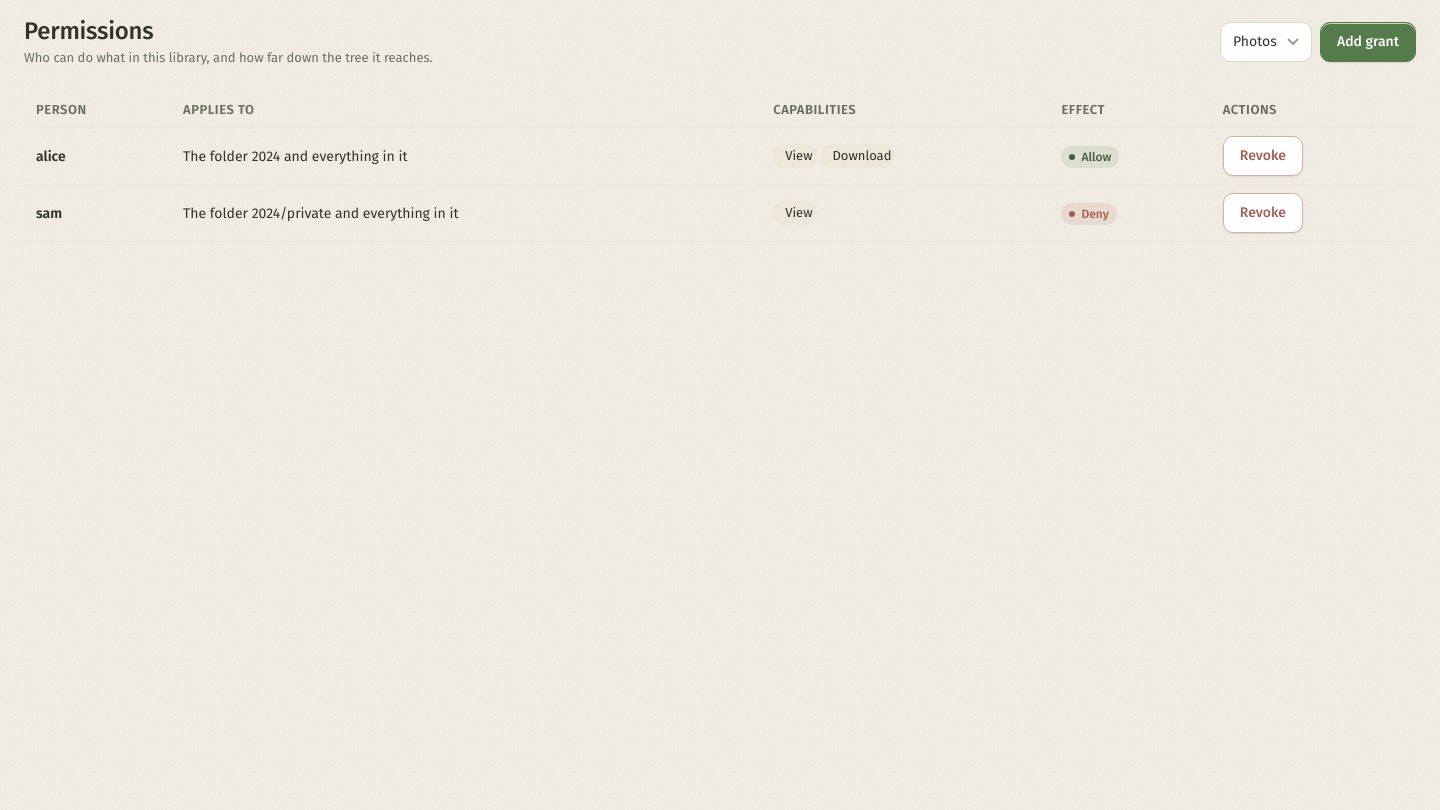
PermissionsPage › reports a failed revoke inside the dialog
This screenshot has width=1440, height=810.
Expected: the table with test id "grants-table" is shown, [24,92,1416,242]
Click the button with test id "revoke-grant-g1".
click(1263, 156)  # box [1223,136,1303,176]
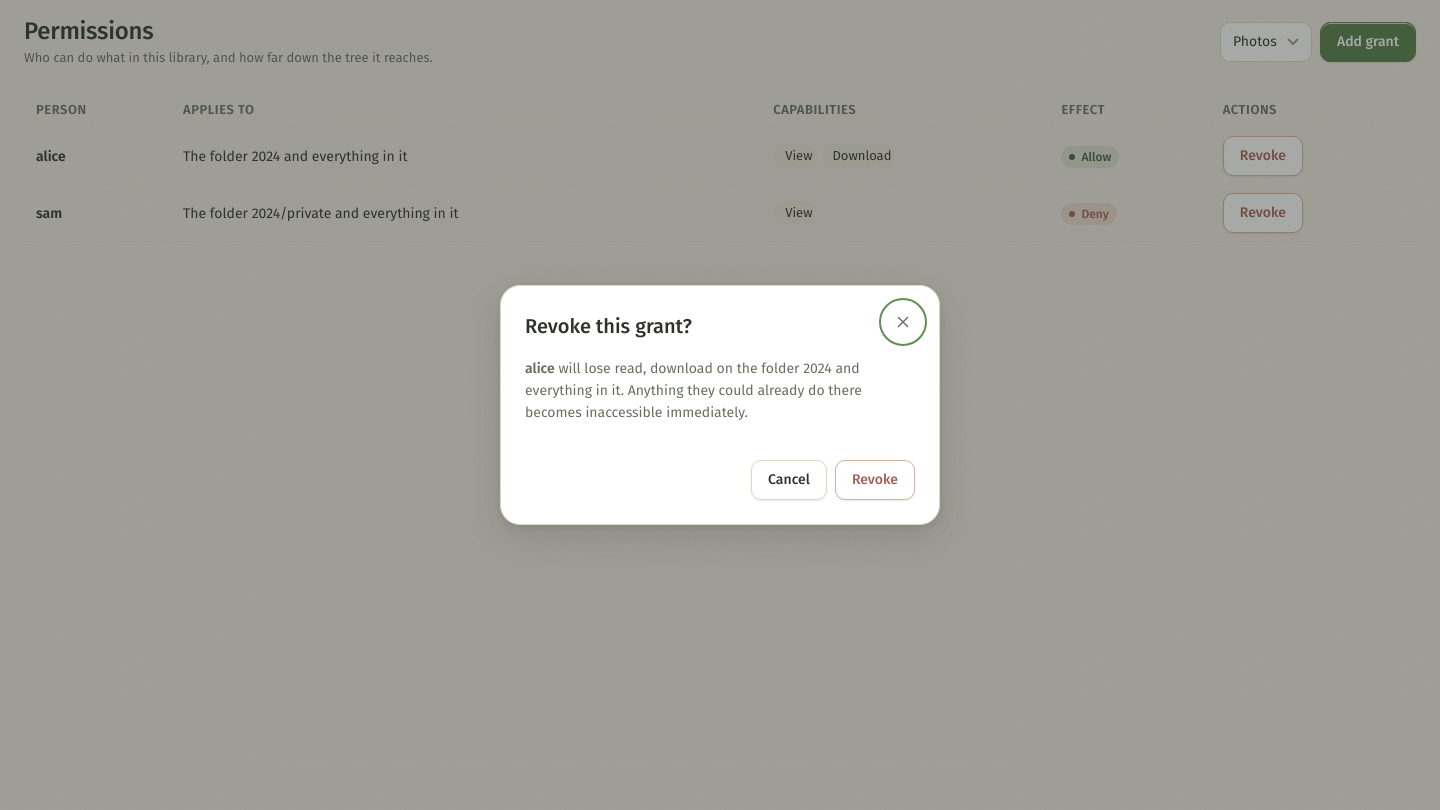
Click the button "Revoke".
click(875, 480)  # box [835,460,915,500]
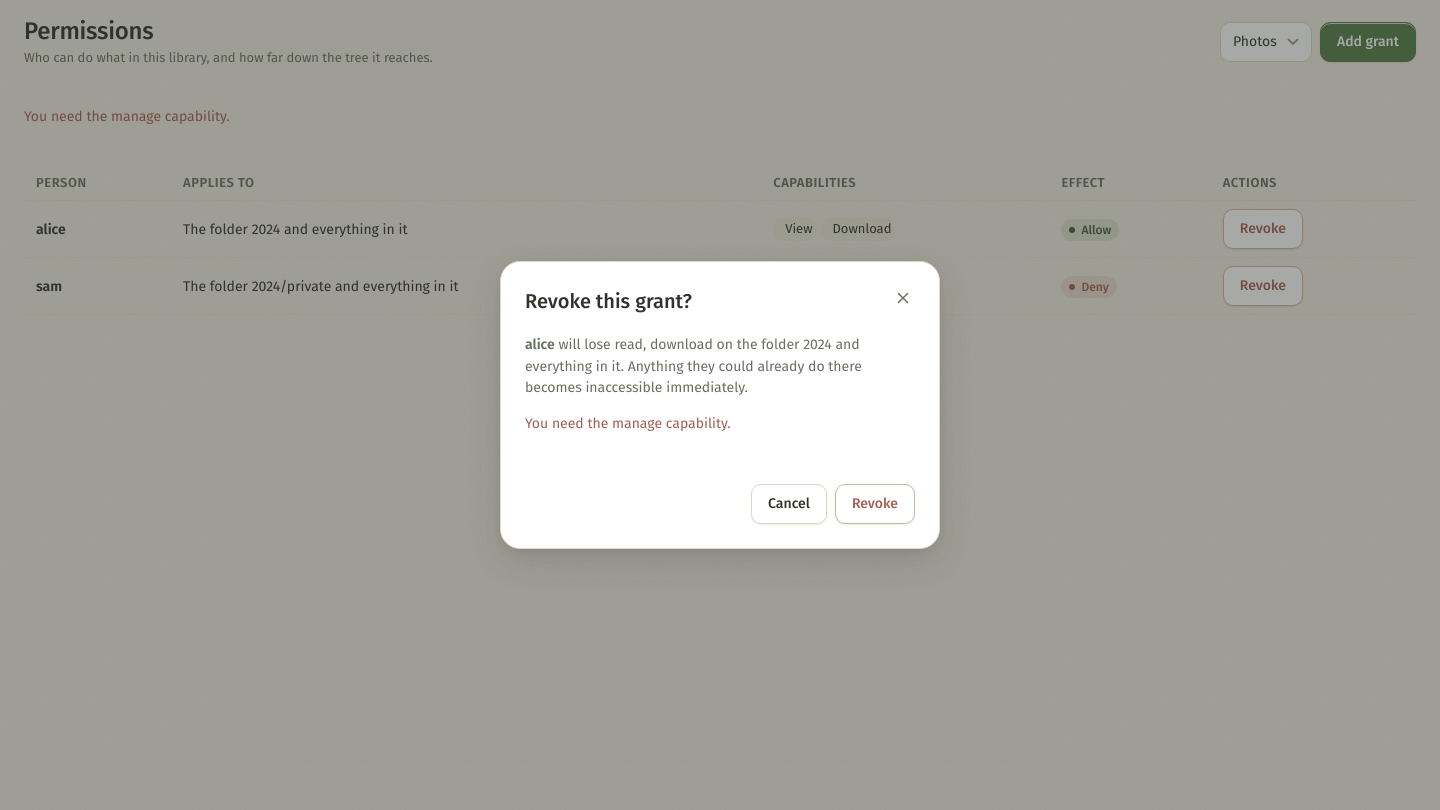
Expected: the message "You need the manage capability." below "will lose" is shown, [525,415,731,432]
